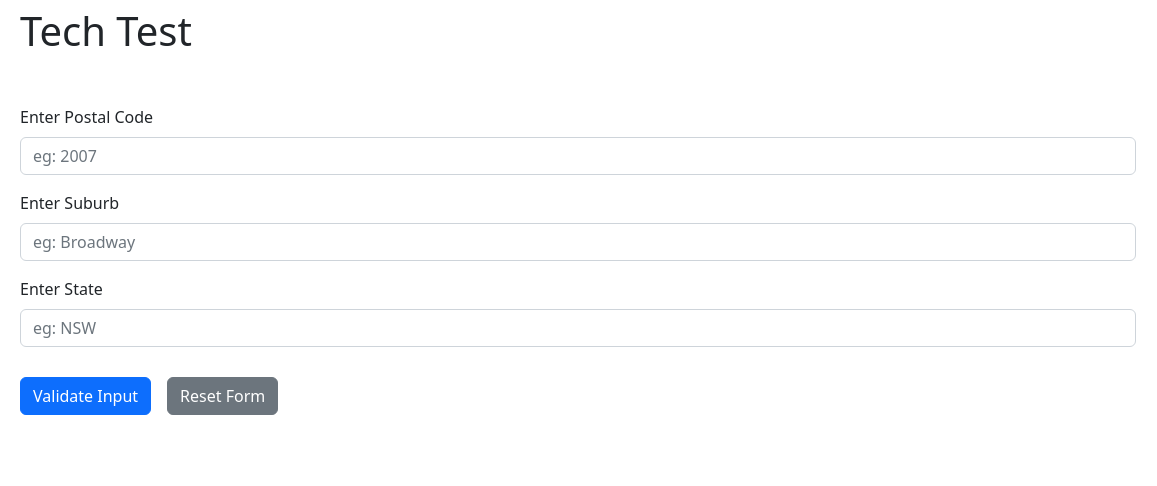
empty spec › Validate for invalid input combination
In the field with placeholder "eg: 2007": (578, 156) [20,137,1136,175], type "2007"
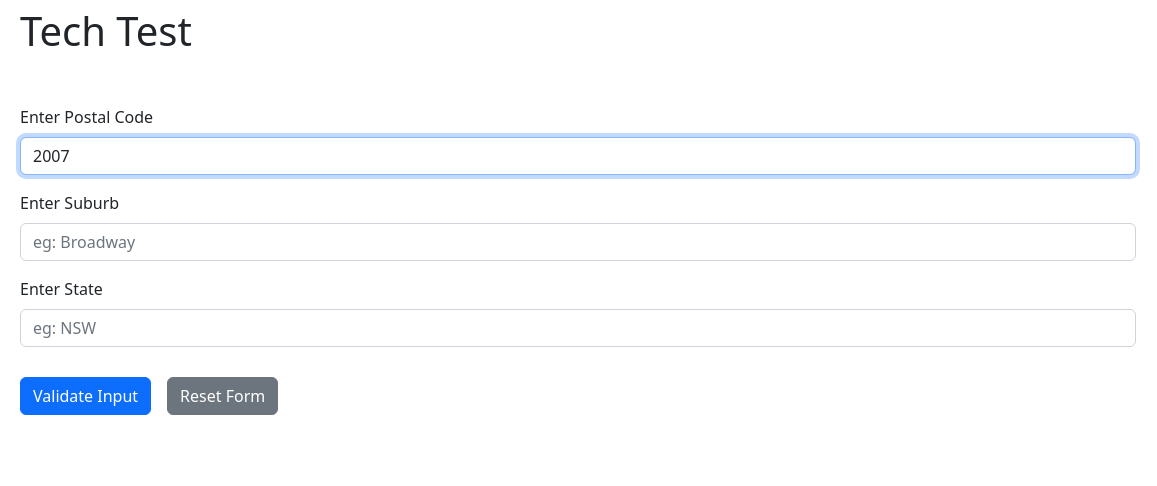
In the field with placeholder "eg: Broadway": (578, 242) [20,223,1136,261], type "MELBOURNE"
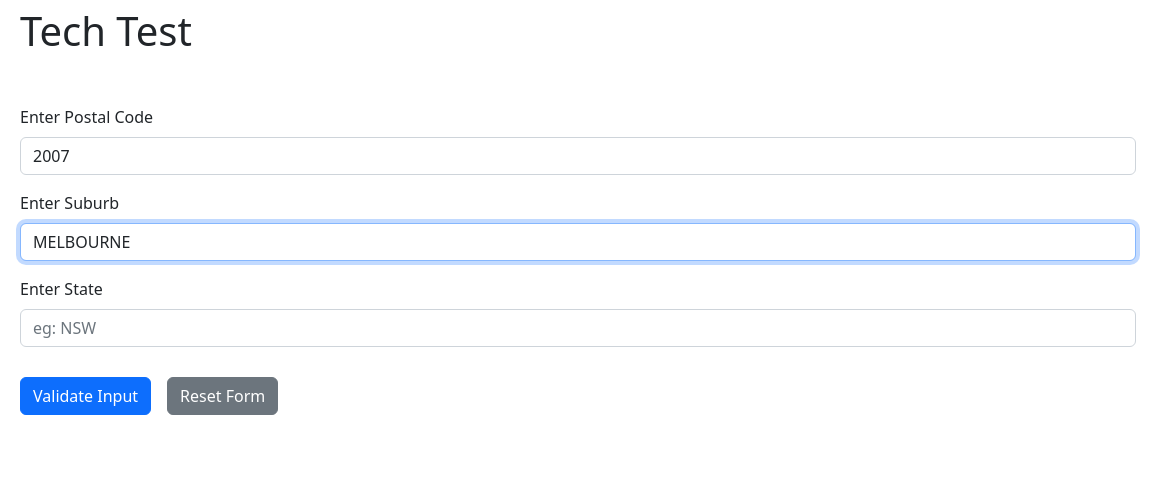
In the field with placeholder "eg: NSW": (578, 328) [20,309,1136,347], type "QLD"
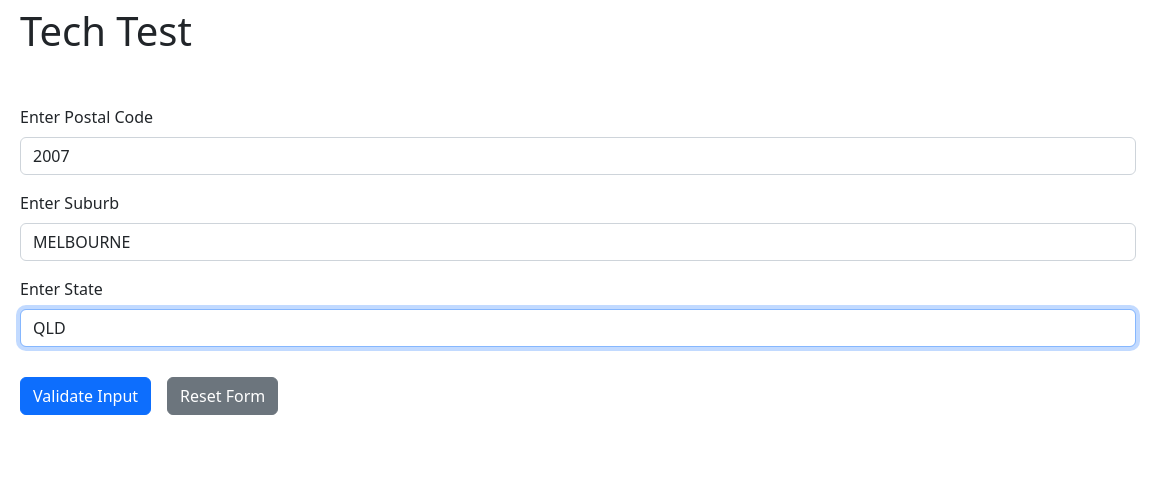
Click the button "Validate Input": click(86, 396) [20,377,151,415]
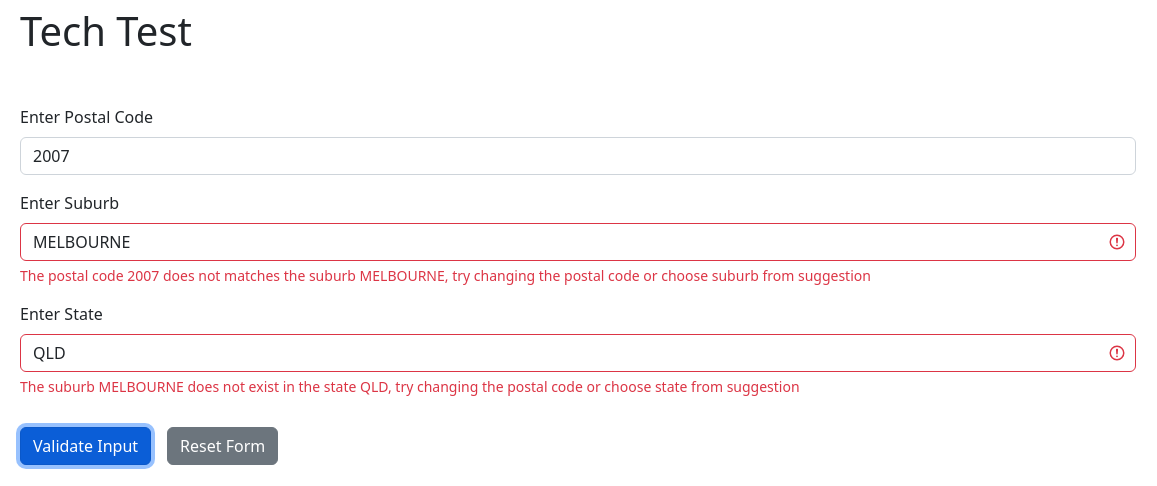
Result: the text "The postal code 2007 does not matches the suburb MELBOURNE, try changing the postal code or choose suburb from suggestion" is shown at [20,266,871,285]
Result: the text "The suburb MELBOURNE does not exist in the state QLD, try changing the postal code or choose state from suggestion" is shown at [20,377,800,396]
